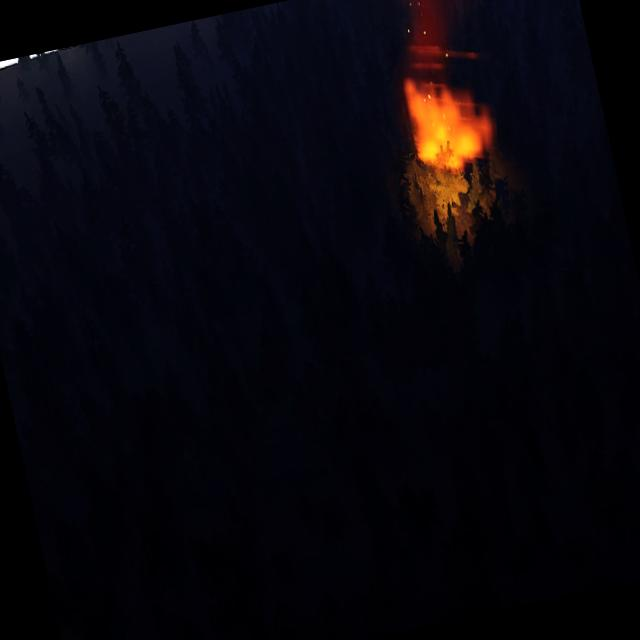fire: (399, 57, 499, 177)
smoke: (371, 0, 529, 52)
